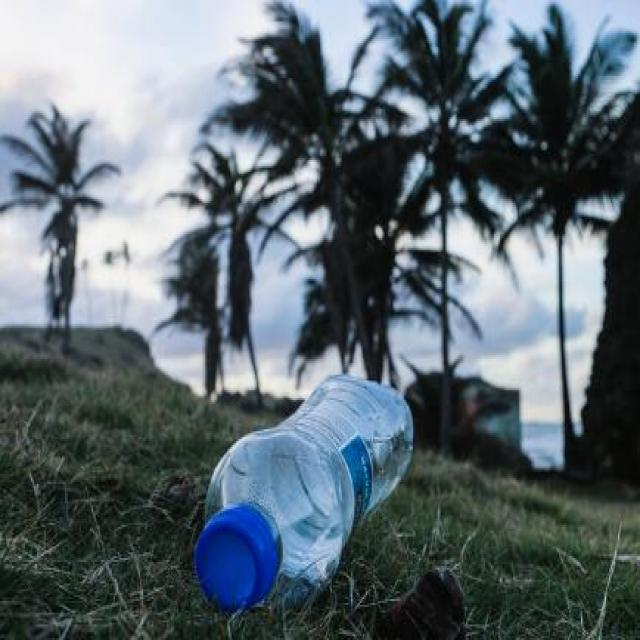bottle: (182, 374, 420, 620)
